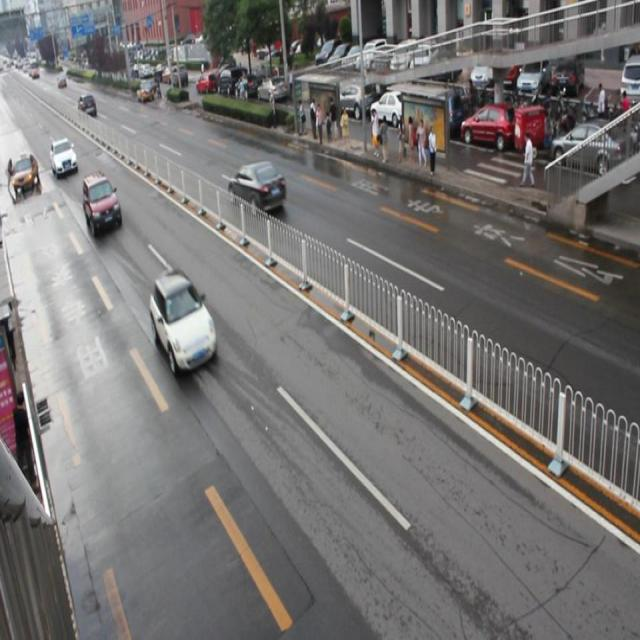car: (148, 269, 216, 375), (227, 160, 287, 216), (82, 169, 122, 233), (49, 136, 78, 177)
